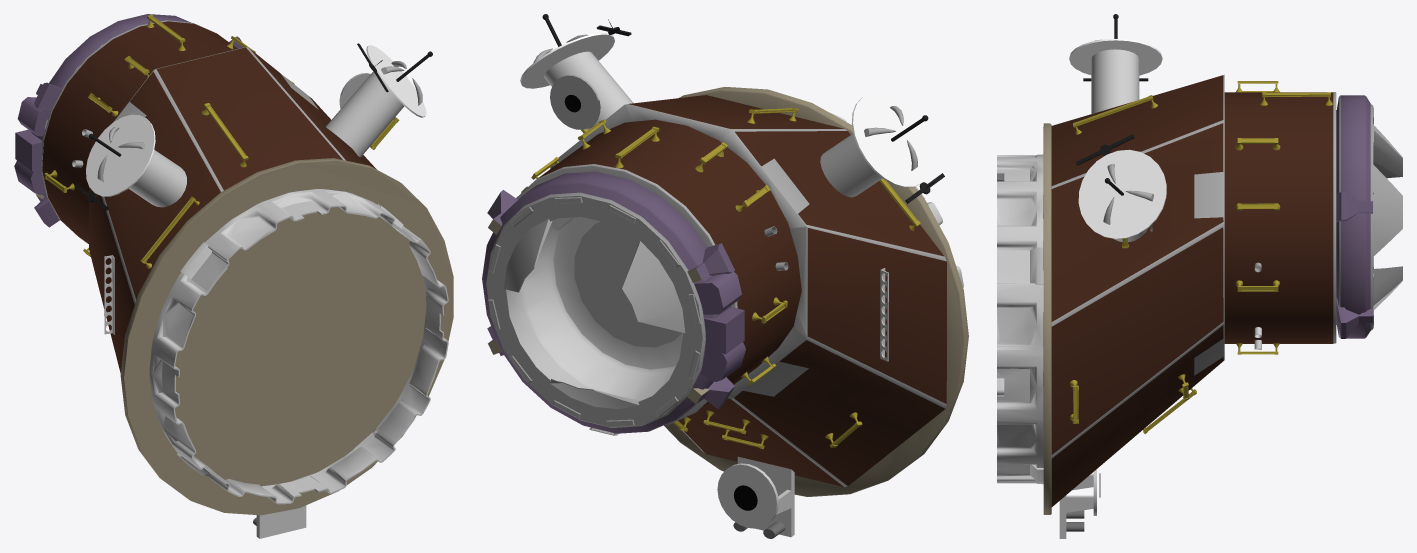
The model's file is PMA2.FBX.
3 views of the same model, side by side, from view 1: azimuth 30°, elevation 25°; view 2: azimuth 150°, elevation 25°; view 3: azimuth 270°, elevation 25° (orthographic). The views are drawn at different scales.
Parts seen in each view (by area): view 1: pma2; view 2: pma2; view 3: pma2.
Part boxes in pixels (x1,y1,x2,y2): pma2: [14, 14, 453, 538]; pma2: [482, 14, 968, 538]; pma2: [997, 14, 1402, 538].
Size of the model in its own units: 2.6 by 3.14 by 2.57.
